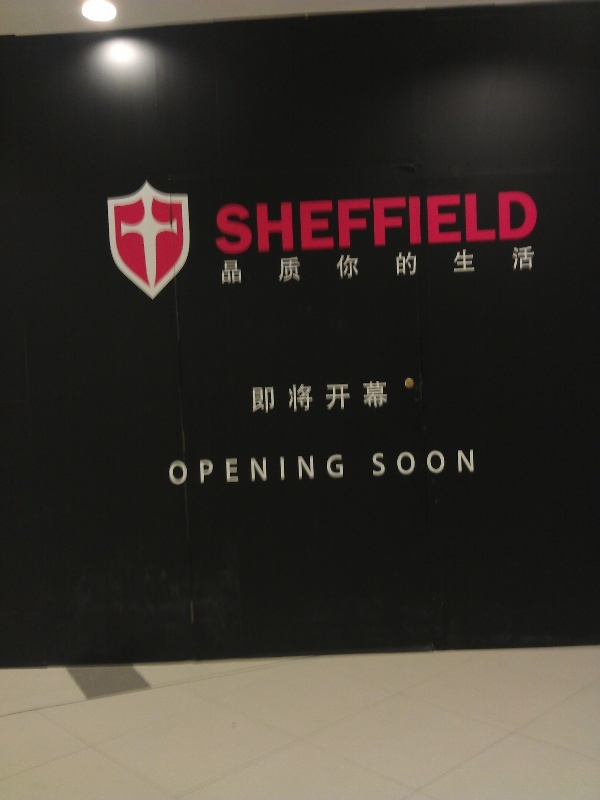text: (209, 190, 224, 254), (225, 190, 240, 254), (241, 190, 256, 254), (257, 190, 272, 254), (273, 190, 288, 254), (289, 190, 304, 254), (305, 190, 320, 254), (321, 190, 336, 254), (337, 190, 352, 254), (353, 190, 368, 254), (369, 190, 384, 254), (385, 190, 400, 254), (401, 190, 416, 254), (417, 190, 432, 254), (433, 190, 448, 254), (449, 190, 464, 254), (465, 190, 480, 254), (481, 190, 496, 254), (497, 190, 512, 254), (513, 190, 528, 254), (225, 247, 240, 284), (241, 247, 256, 284), (257, 247, 272, 284), (273, 247, 288, 284), (289, 247, 304, 284), (305, 247, 320, 284), (321, 247, 336, 284), (337, 247, 352, 284), (353, 247, 368, 284), (369, 247, 384, 284), (385, 247, 400, 284), (401, 247, 416, 284), (417, 247, 432, 284), (433, 247, 448, 284), (449, 247, 464, 284), (465, 247, 480, 284), (481, 247, 496, 284), (497, 247, 512, 284), (513, 247, 528, 284), (257, 380, 272, 415), (273, 380, 288, 415), (289, 380, 304, 415), (305, 380, 320, 415), (321, 380, 336, 415), (337, 380, 352, 415), (353, 380, 368, 415), (369, 380, 384, 415), (529, 190, 537, 254), (177, 454, 192, 487), (193, 454, 208, 487), (209, 454, 224, 487), (225, 454, 240, 487), (241, 454, 256, 487), (257, 454, 272, 487), (273, 454, 288, 487), (289, 454, 304, 487), (305, 454, 320, 487), (321, 454, 336, 487), (369, 448, 384, 477), (385, 448, 400, 477), (401, 448, 416, 477), (417, 448, 432, 477), (433, 448, 448, 477), (449, 448, 464, 477), (337, 454, 349, 487), (165, 454, 176, 487), (465, 448, 477, 477), (529, 247, 538, 284), (216, 247, 224, 284), (249, 380, 256, 415), (385, 380, 391, 415)
